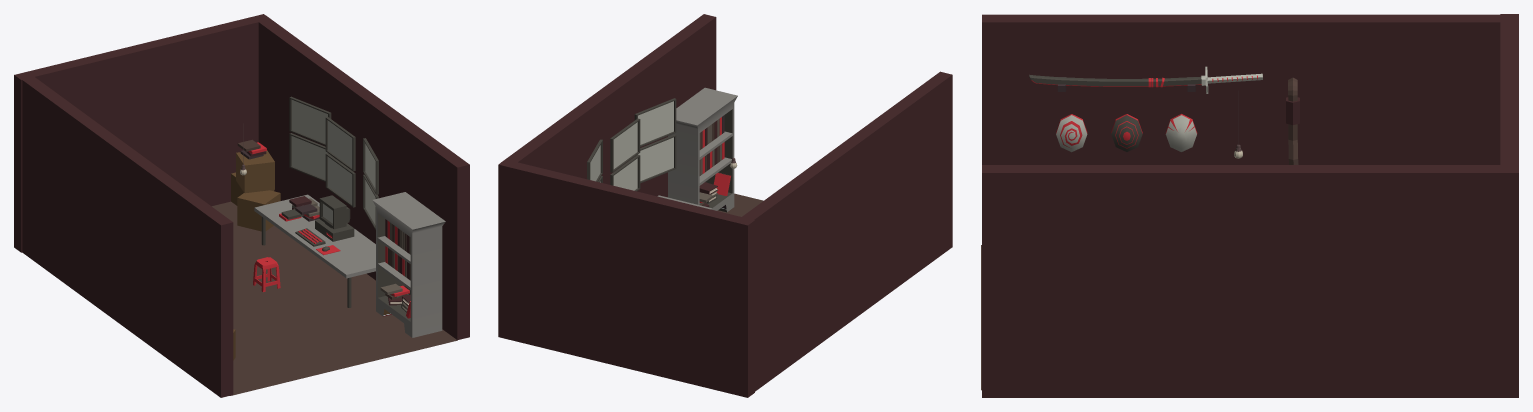
Rendered from Sasuke_room.fbx.
The picture shows the model from 3 angles, left to right: view 1: azimuth 30°, elevation 25°; view 2: azimuth 150°, elevation 25°; view 3: azimuth 270°, elevation 25°; orthographic projection. The views are drawn at different scales.
Visible parts, largest first — view 1: walls, polySurface110, polySurface622, pCube53, pCube54, polySurface113, polySurface67, polySurface278, polySurface109; view 2: walls, polySurface622, pCube53, polySurface110; view 3: walls, pCylinder11, polySurface623, polySurface15.
Boxes of the visible parts, x1=… form: walls: x1=14, y1=14, x2=469, y2=397; polySurface110: x1=212, y1=201, x2=457, y2=395; polySurface622: x1=372, y1=192, x2=445, y2=337; pCube53: x1=289, y1=96, x2=378, y2=229; pCube54: x1=254, y1=194, x2=375, y2=307; polySurface113: x1=231, y1=139, x2=280, y2=231; polySurface67: x1=295, y1=195, x2=354, y2=255; polySurface278: x1=279, y1=196, x2=319, y2=221; polySurface109: x1=253, y1=257, x2=280, y2=292; walls: x1=498, y1=14, x2=952, y2=397; polySurface622: x1=668, y1=87, x2=737, y2=212; pCube53: x1=587, y1=98, x2=676, y2=191; polySurface110: x1=717, y1=193, x2=763, y2=216; walls: x1=982, y1=14, x2=1518, y2=397; pCylinder11: x1=1056, y1=114, x2=1197, y2=152; polySurface623: x1=1029, y1=66, x2=1262, y2=93; polySurface15: x1=1286, y1=77, x2=1299, y2=164.
Bounding box in the file's own units: 32.93 × 21.92 × 47.09.
Materials: 17 (17 with a texture image).
